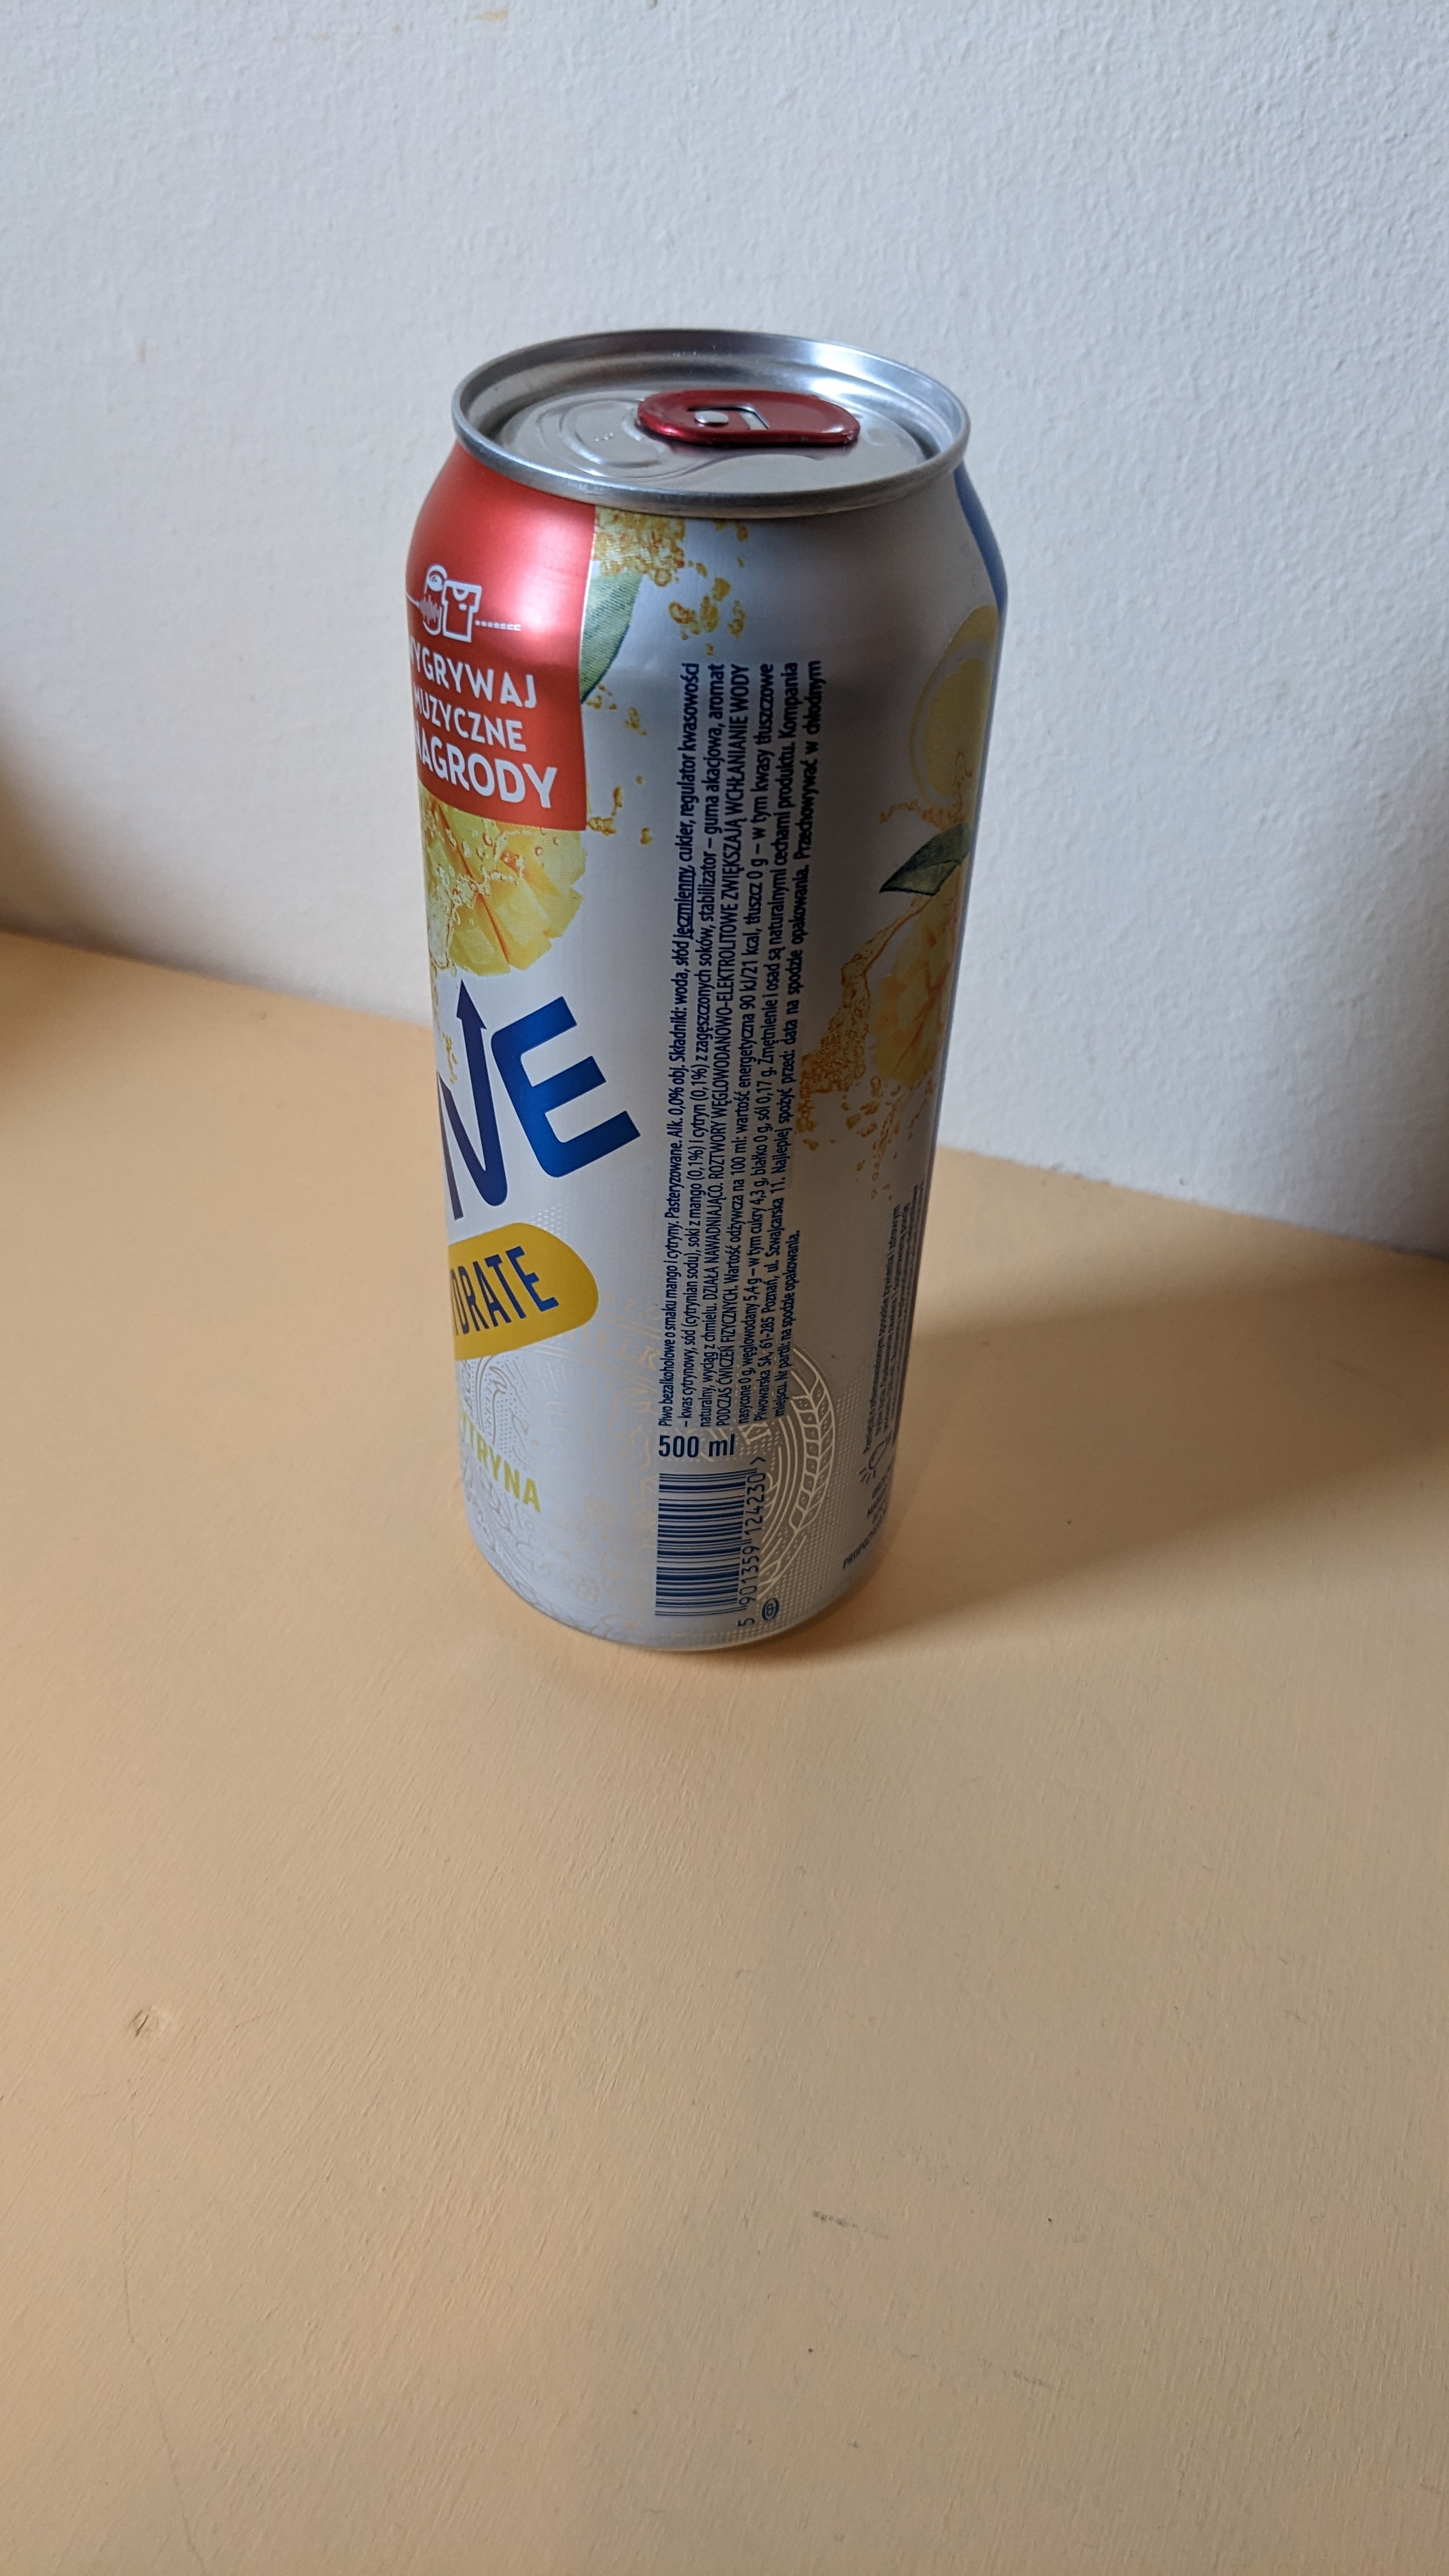lech-active: (372, 313, 1033, 1698)
